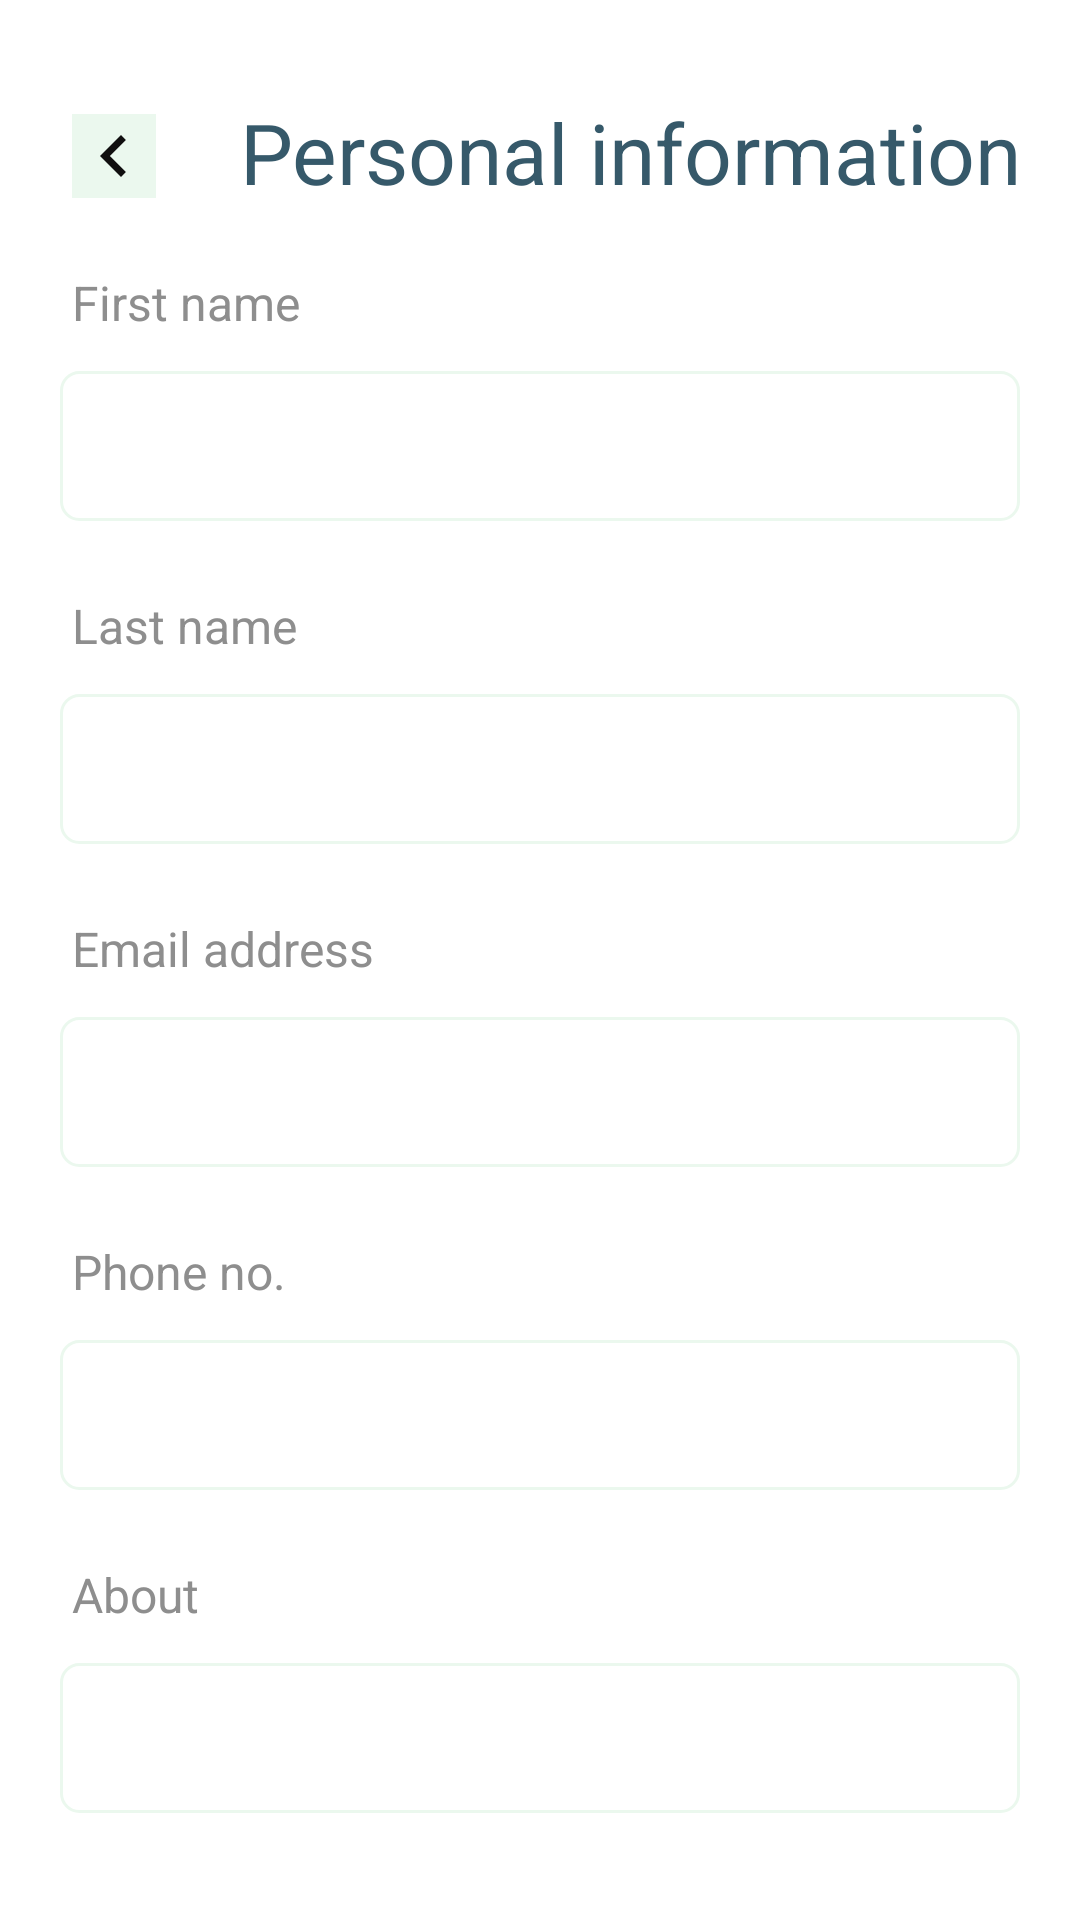

Icons on this 1080 x 1920 Android screen, each with the point to tap as (x=x, y=y):
chevron left: (x=114, y=156)
